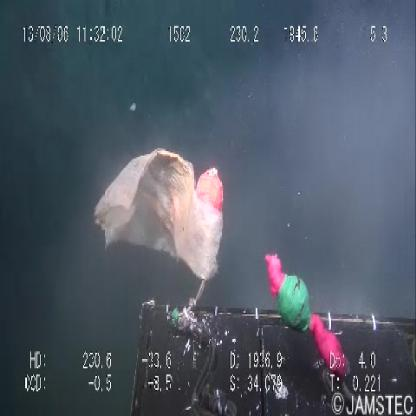Rov: (124, 248, 416, 416)
Rác: (93, 142, 237, 294)
